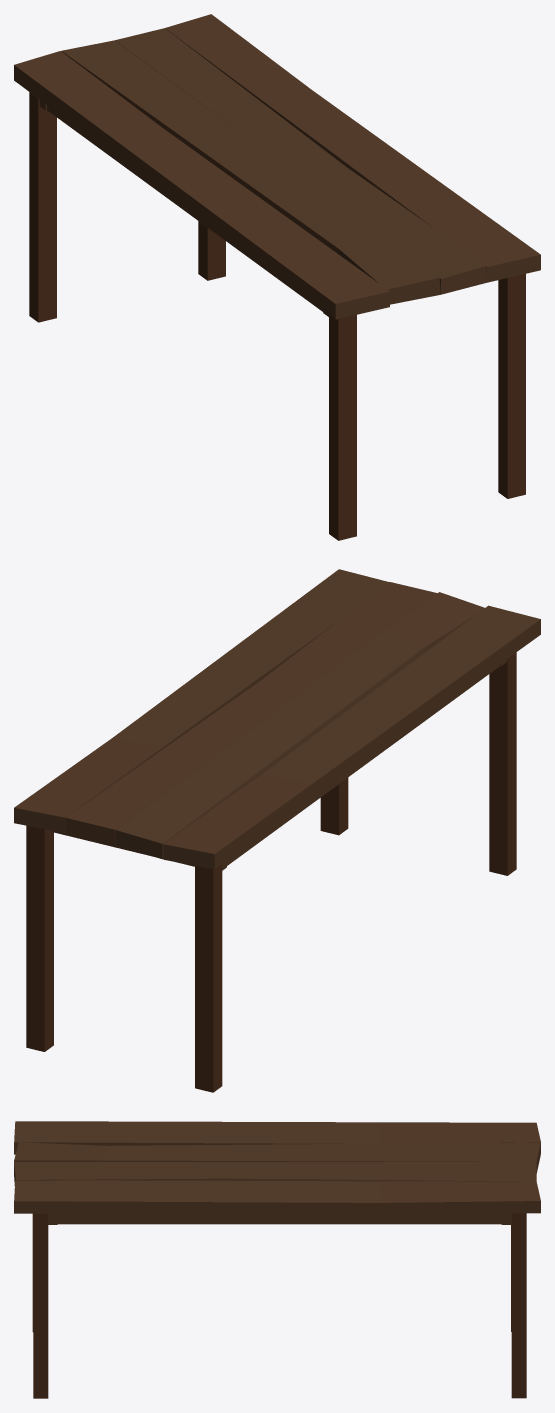
File: Table 1.glb
3 views of the same model, one above another, from view 1: azimuth 30°, elevation 25°; view 2: azimuth 150°, elevation 25°; view 3: azimuth 270°, elevation 25° (orthographic). The views are drawn at different scales.
Parts seen in each view (by area): view 1: Table 1; view 2: Table 1; view 3: Table 1.
Part boxes in pixels (x1,y1,x2,y2): Table 1: (14,14,540,540); Table 1: (14,569,540,1092); Table 1: (14,1121,540,1398).
Size of what is drawn, in the model's own units: 0.8117 by 0.9465 by 2.26.
Materials: 1 (1 with a texture image).
